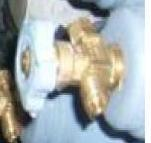cylinder: (0, 1, 151, 143)
